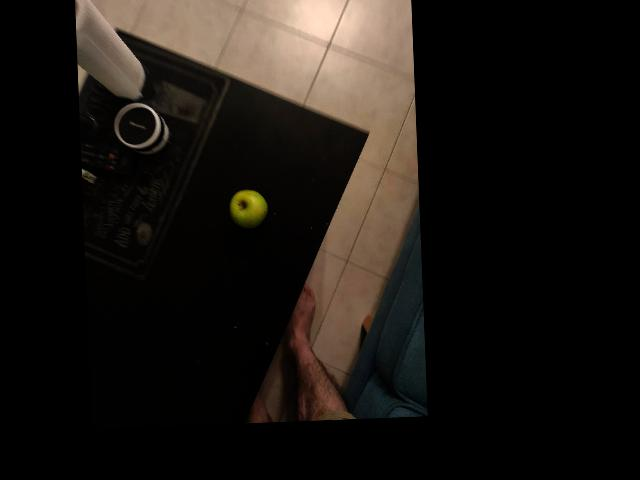apple: (291, 117, 351, 178)
